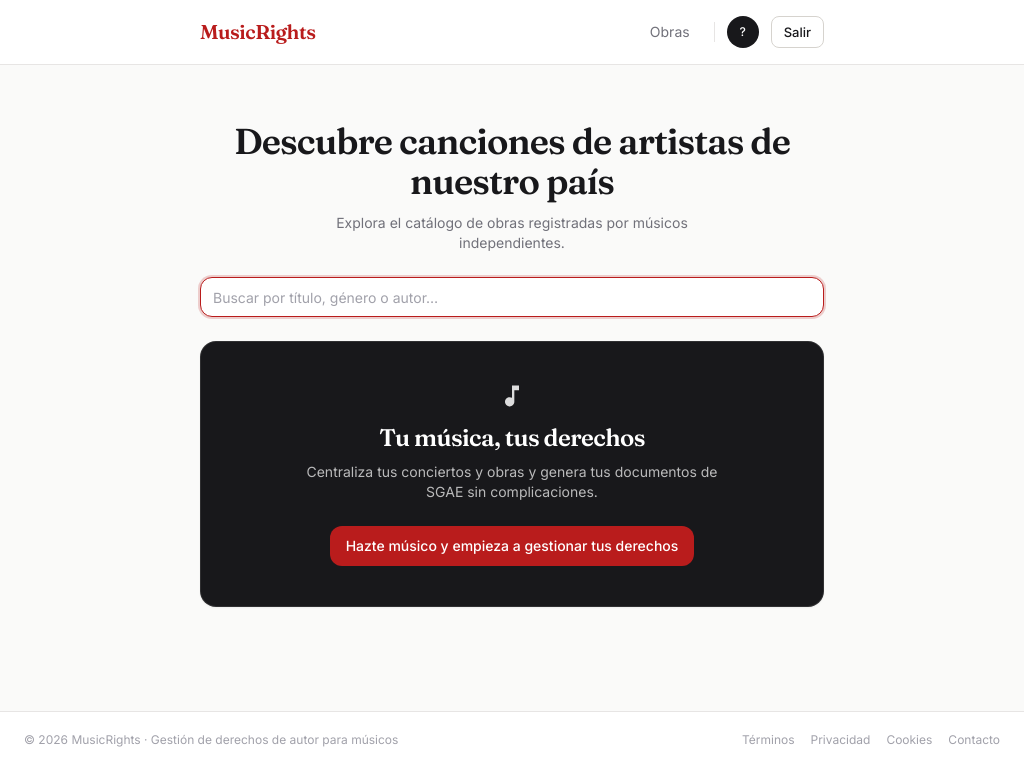
Test case: DashboardPage › filtra la tabla según la búsqueda
This screenshot has width=1024, height=768.
// Escribimos en el buscador
Type "Ártica" into the field with placeholder "Buscar por título, género o autor…".
click(512, 297); type("Ártica")  # box [200,277,824,317]
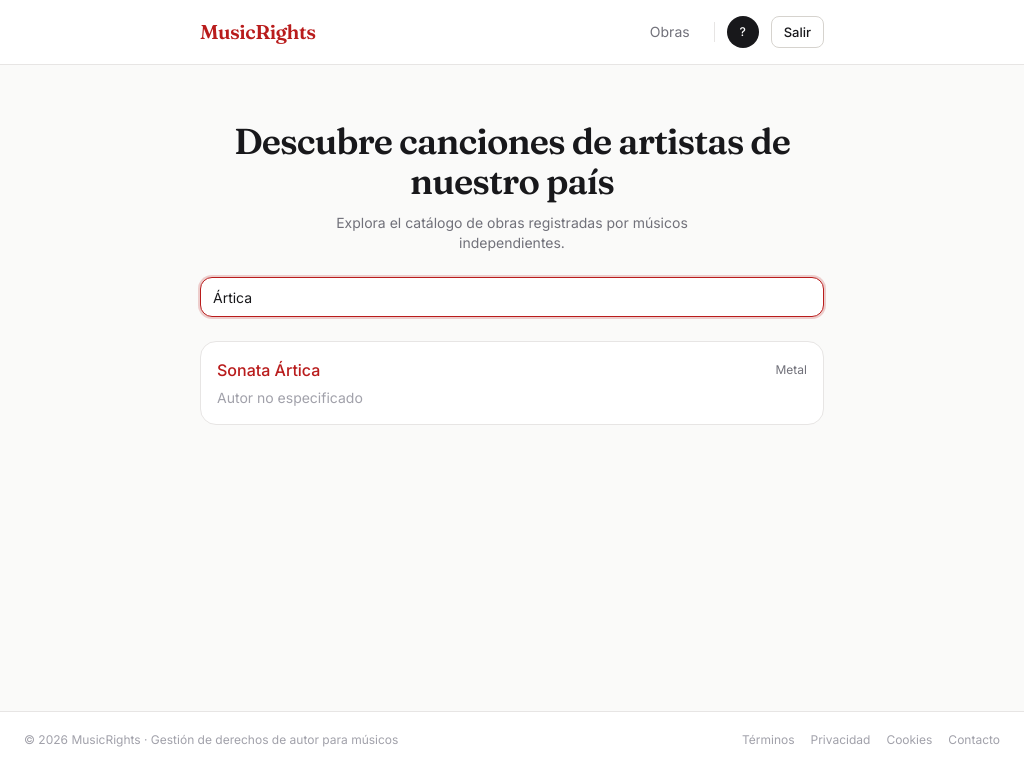
Expected: the button "Sonata Ártica" is shown, [217,358,320,382]
